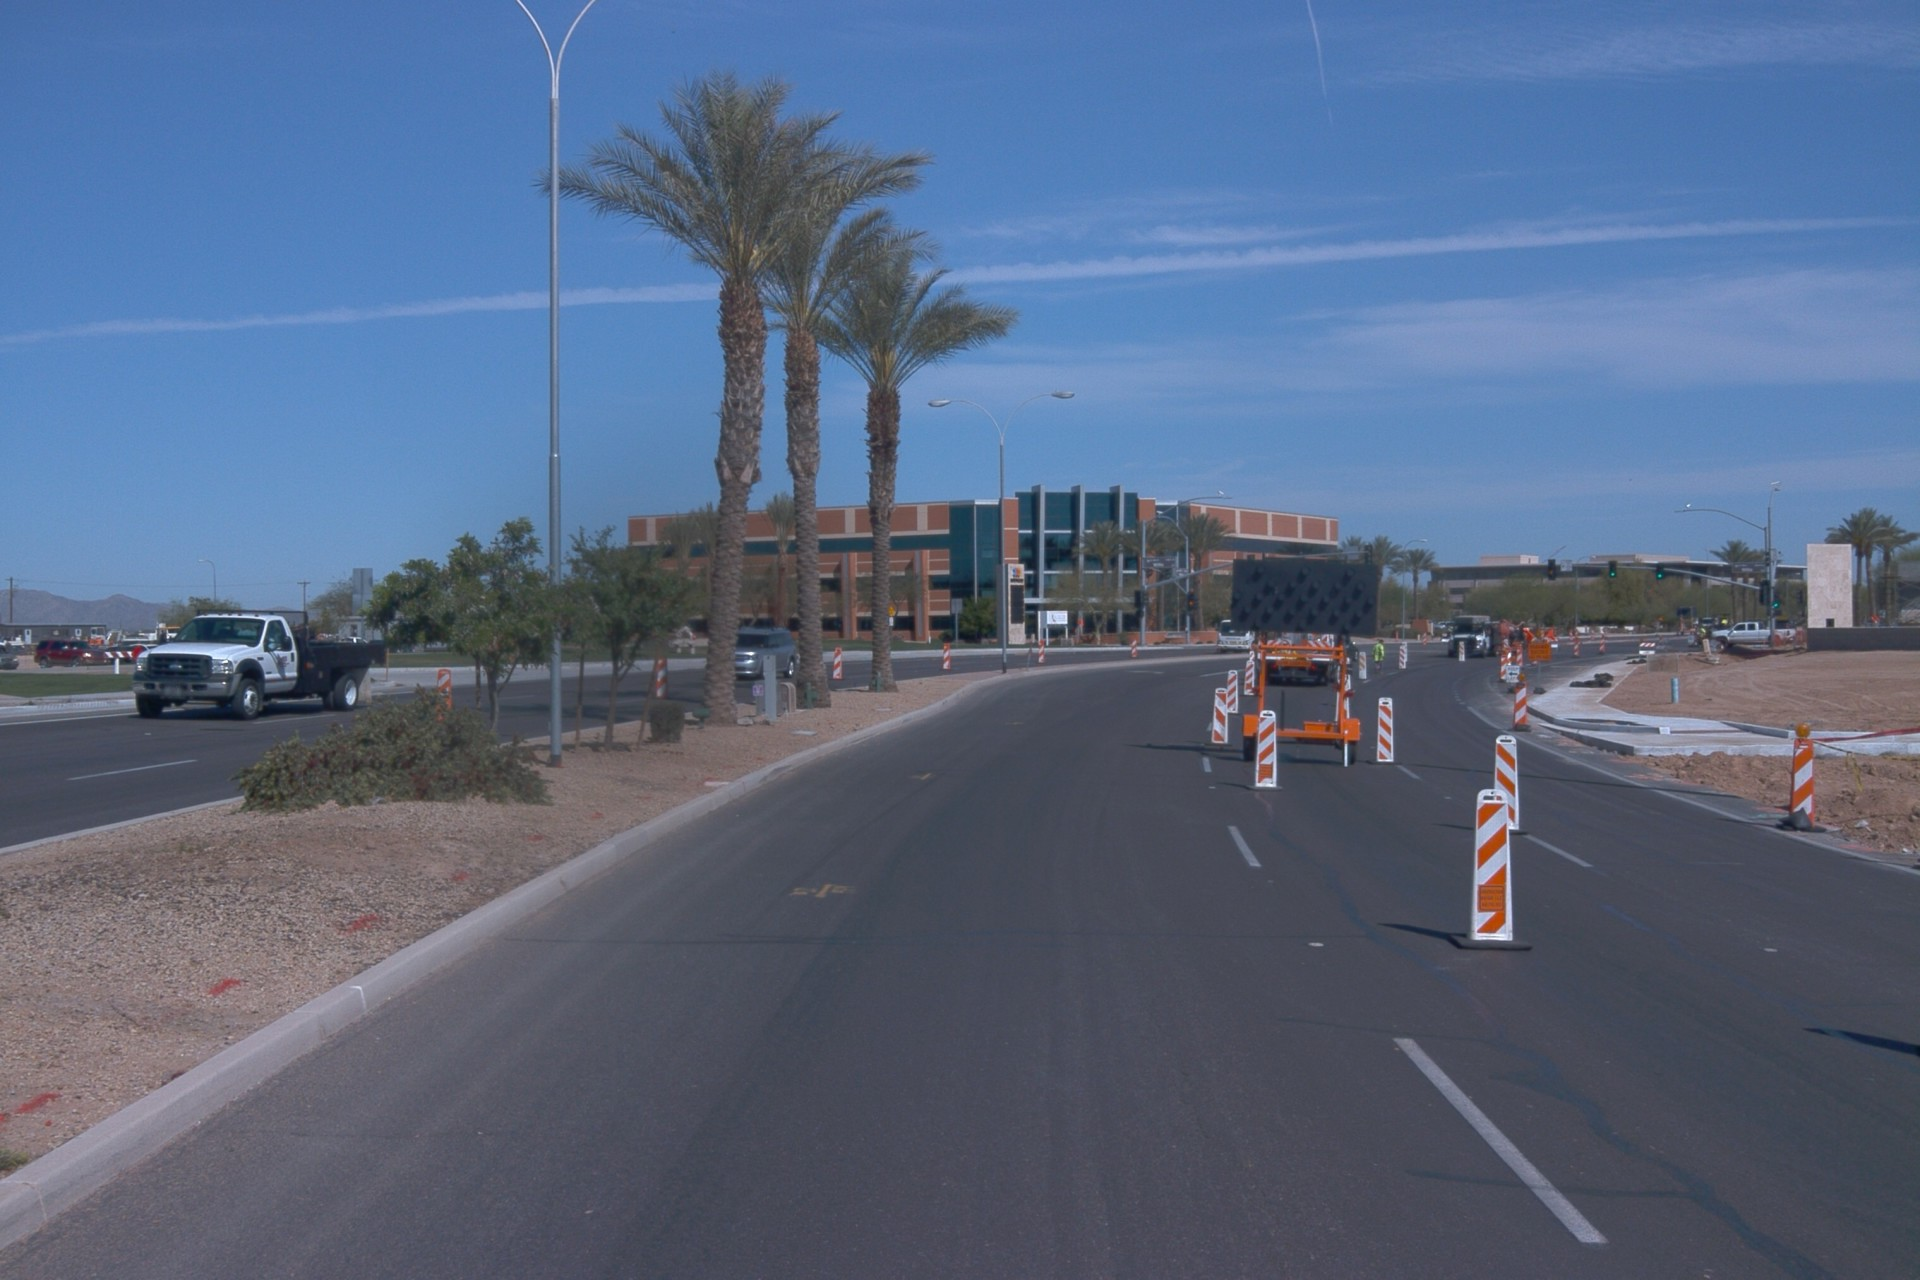TYPE_PEDESTRIAN: (1251, 633, 1262, 688), (1371, 639, 1386, 675)
TYPE_VEHICLE: (1222, 548, 1398, 787), (119, 603, 397, 726), (1245, 630, 1356, 690), (1446, 611, 1540, 660), (733, 626, 797, 683), (1698, 620, 1801, 651), (30, 638, 111, 671), (1212, 619, 1255, 657), (360, 636, 411, 655), (321, 632, 367, 651), (127, 640, 160, 661), (0, 641, 20, 672), (1346, 639, 1359, 663)
